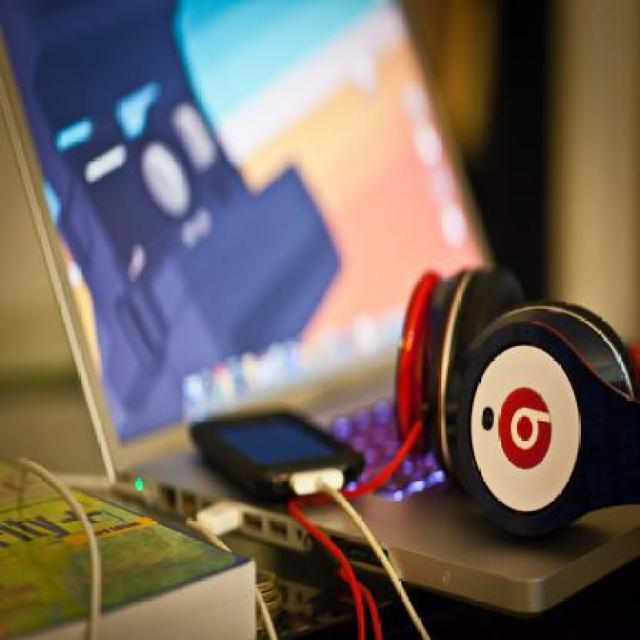earphone: (395, 272, 635, 533)
laptop_computer: (3, 0, 529, 413)
smart phone: (150, 418, 368, 504)
